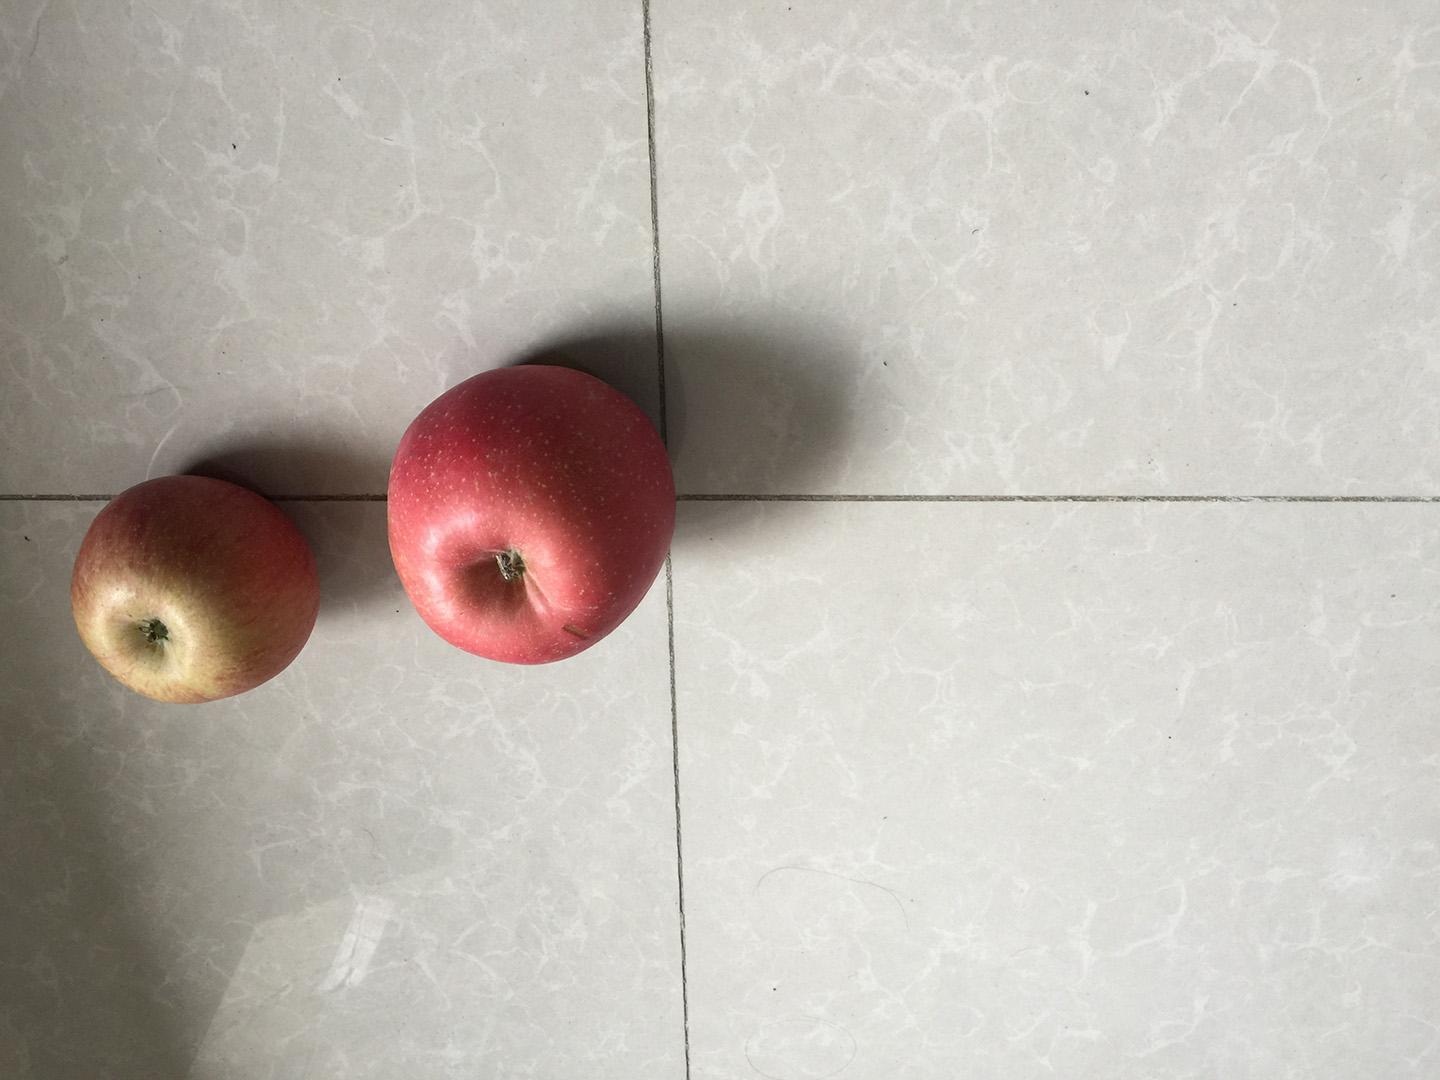apple: (375, 354, 684, 674), (58, 466, 325, 712)
